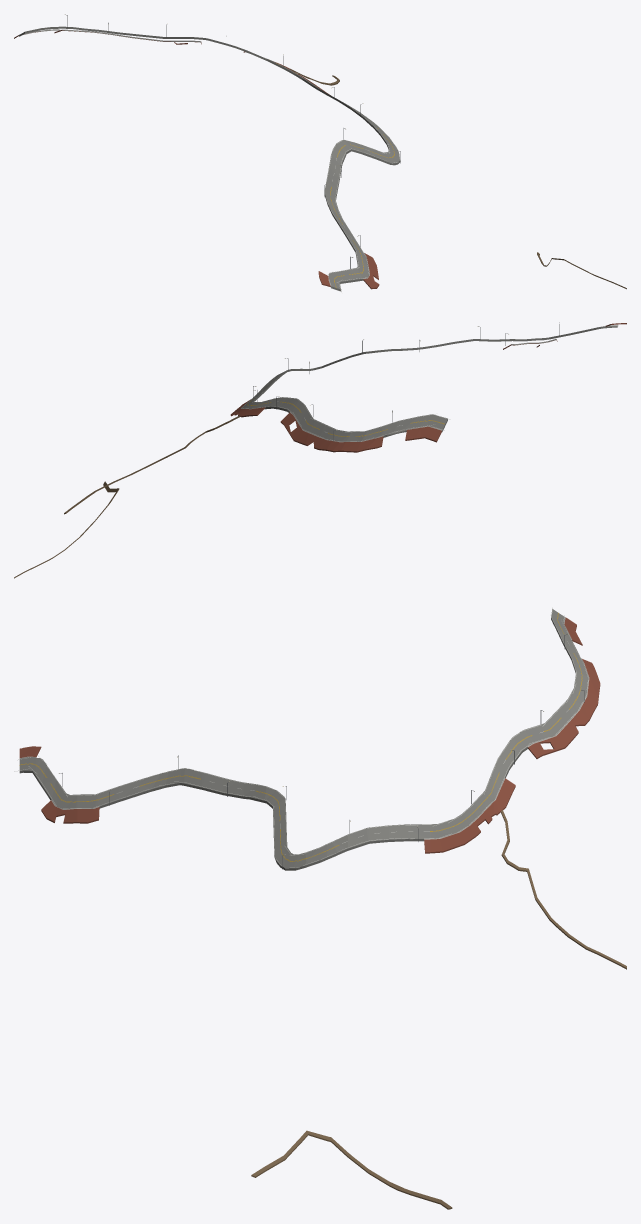
3 views of the same model, one above another, from view 1: azimuth 30°, elevation 25°; view 2: azimuth 150°, elevation 25°; view 3: azimuth 270°, elevation 25° (orthographic). The views are drawn at different scales.
Size of the model in its own units: 295 by 183 by 295.
